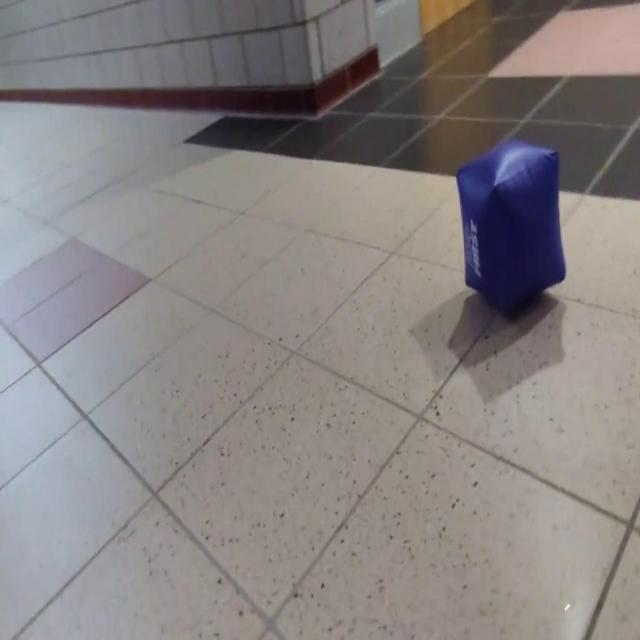frc_cube: (454, 136, 564, 317)
